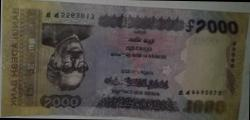1000 taka: (5, 1, 239, 117)
